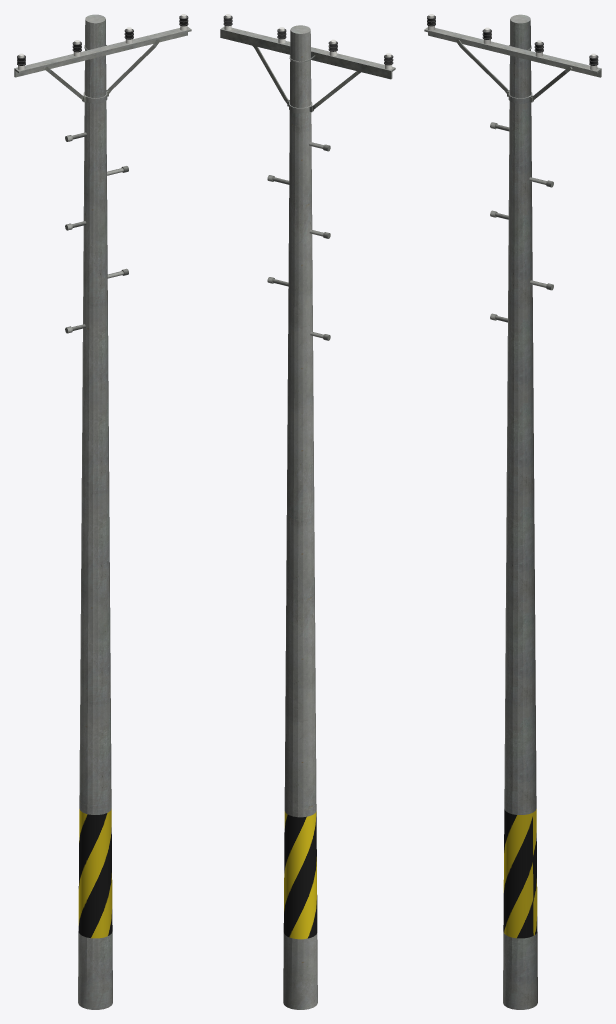
The picture shows the model from 3 angles, left to right: view 1: azimuth 30°, elevation 25°; view 2: azimuth 150°, elevation 25°; view 3: azimuth 330°, elevation 25°; orthographic projection.
Parts seen in each view (by area): view 1: MainBuilding; view 2: MainBuilding; view 3: MainBuilding.
Part boxes in pixels (bbox=[...]): MainBuilding: bbox=[14, 14, 191, 1009]; MainBuilding: bbox=[220, 14, 395, 1009]; MainBuilding: bbox=[424, 14, 601, 1009].
Size of the model in its own units: 0.1838 by 1 by 0.0342.
1 material, 1 textured.
